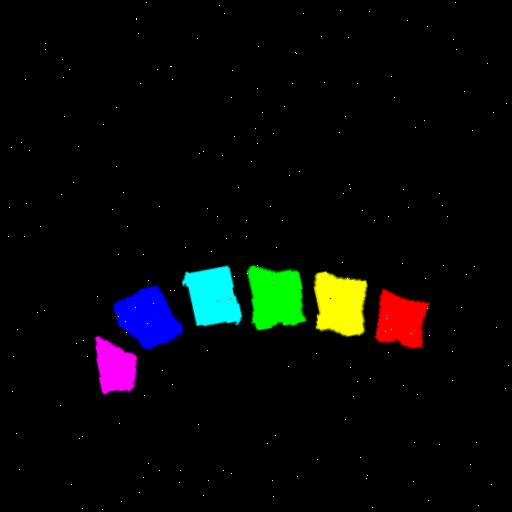L1: (378, 283, 430, 341)
L2: (314, 266, 366, 329)
L3: (251, 263, 307, 324)
L4: (184, 265, 243, 324)
L5: (116, 283, 185, 346)
S1: (97, 335, 138, 392)
